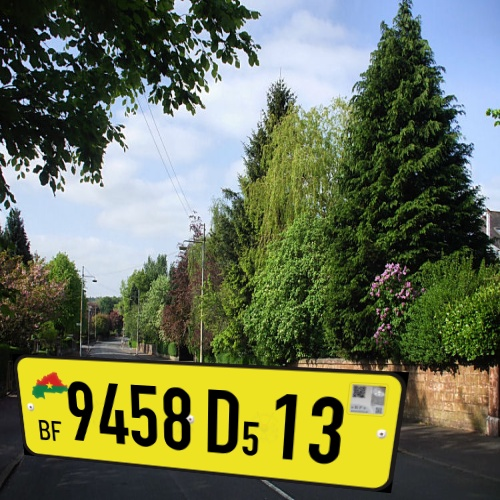plate: (9, 343, 427, 494)
